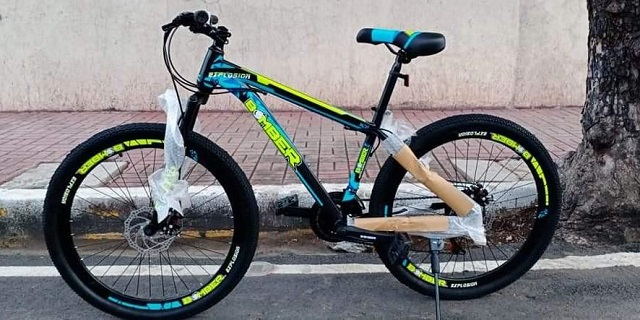bike: (44, 12, 562, 320)
tree: (579, 1, 640, 239)
